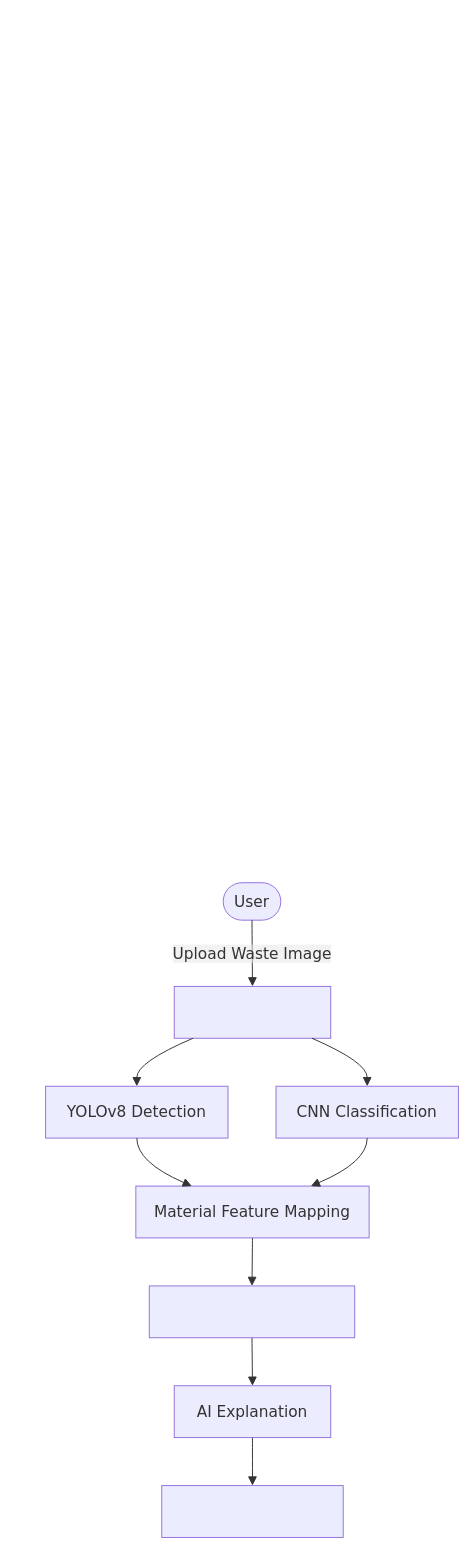
This 475x1554 diagram has some shape labels left out. Each missing label, with the centre of its shape:
Flask Web App: point (252, 1011)
Random Forest Model: point (251, 1311)
Results Dashboard: point (252, 1511)
